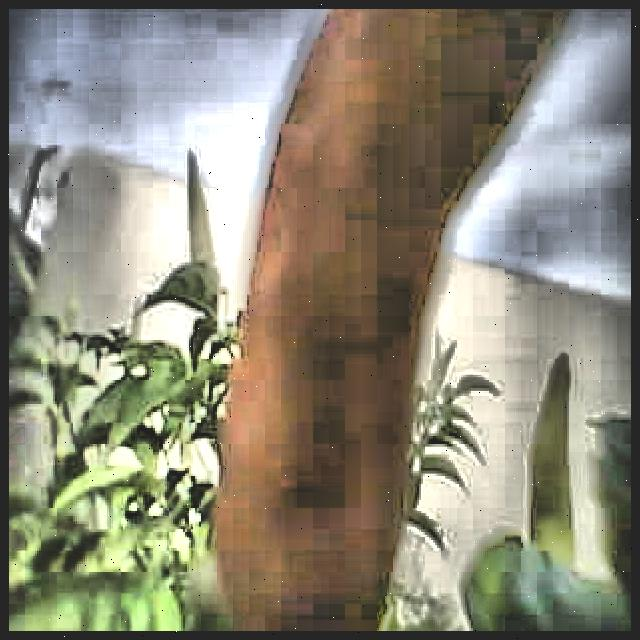Cabai: (185, 9, 561, 623)
